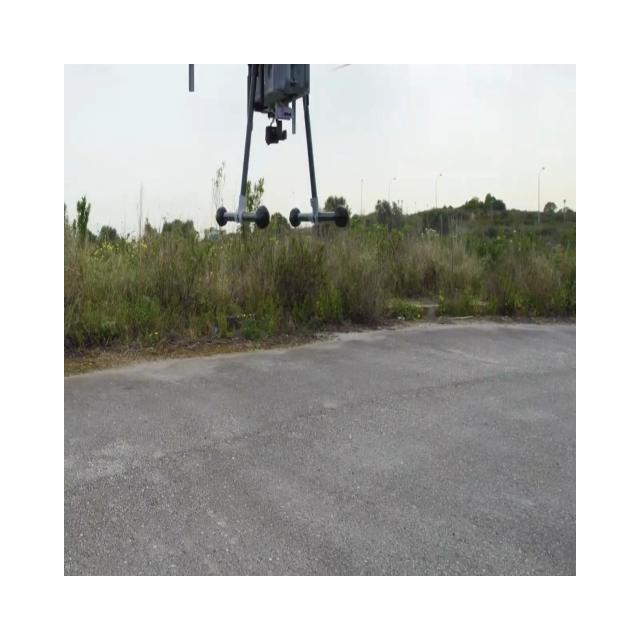drone: (188, 62, 350, 238)
